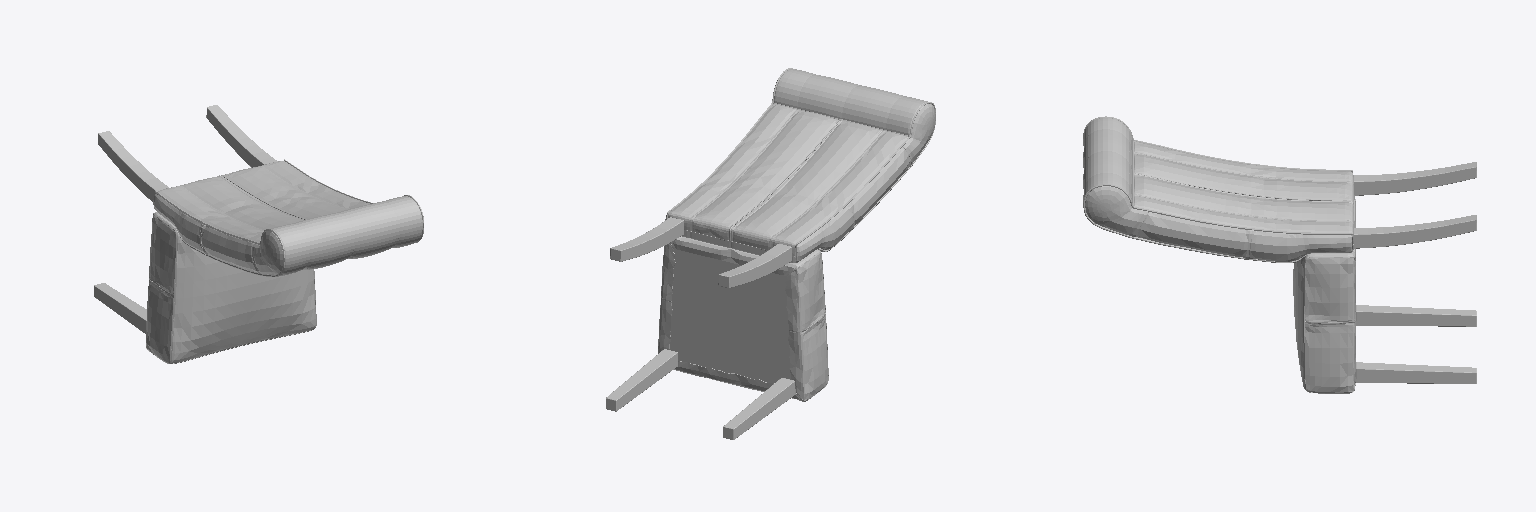
File: dining_chair_02.002.obj
3 renders of one model, left to right at view 1: azimuth 30°, elevation 25°; view 2: azimuth 150°, elevation 25°; view 3: azimuth 270°, elevation 25°, orthographic.
Visible parts, largest first — view 1: dining_chair_02.002; view 2: dining_chair_02.002; view 3: dining_chair_02.002.
Part boxes in pixels (bbox=[...]): dining_chair_02.002: bbox=[94, 105, 423, 363]; dining_chair_02.002: bbox=[606, 68, 935, 439]; dining_chair_02.002: bbox=[1083, 116, 1476, 393].
Size of the model in its own units: 0.4336 by 0.5764 by 0.9734.